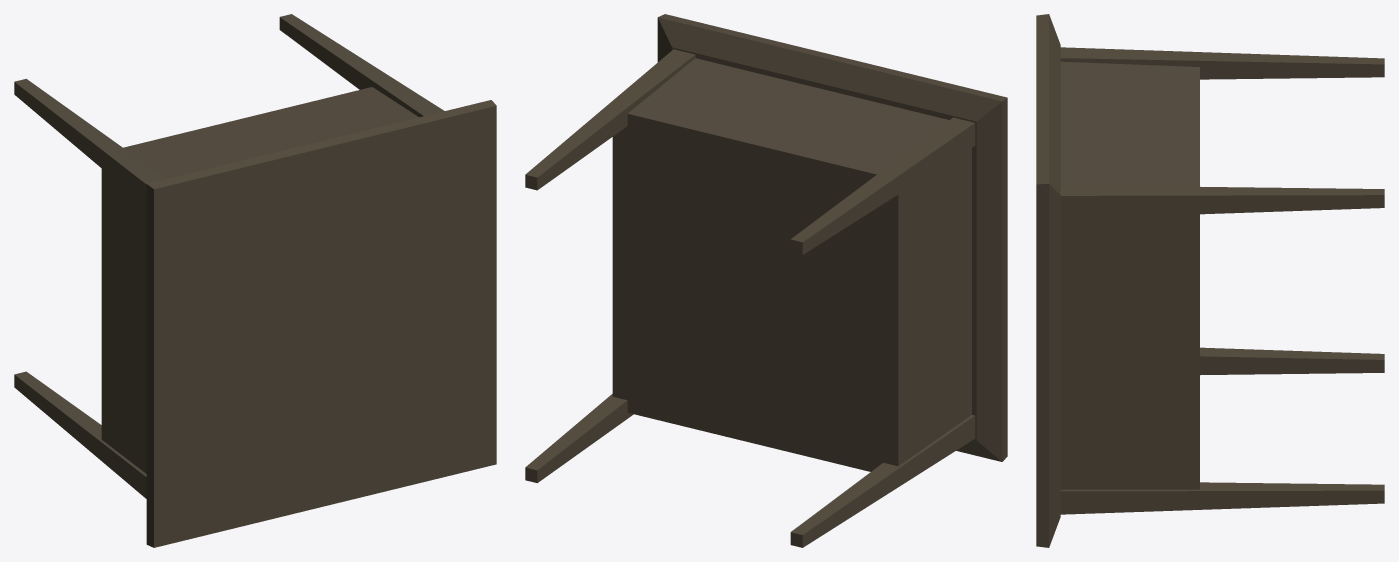
File: nightstand-1.obj
3 renders of one model, left to right at view 1: azimuth 30°, elevation 25°; view 2: azimuth 150°, elevation 25°; view 3: azimuth 270°, elevation 25°, orthographic.
Visible parts, largest first — view 1: nightstand-1; view 2: nightstand-1; view 3: nightstand-1.
Part boxes in pixels (<box>): nightstand-1: <box>14,14,496,547</box>; nightstand-1: <box>525,14,1007,547</box>; nightstand-1: <box>1036,14,1384,547</box>.
Size of the model in its own units: 27.7 by 27.7 by 24.
